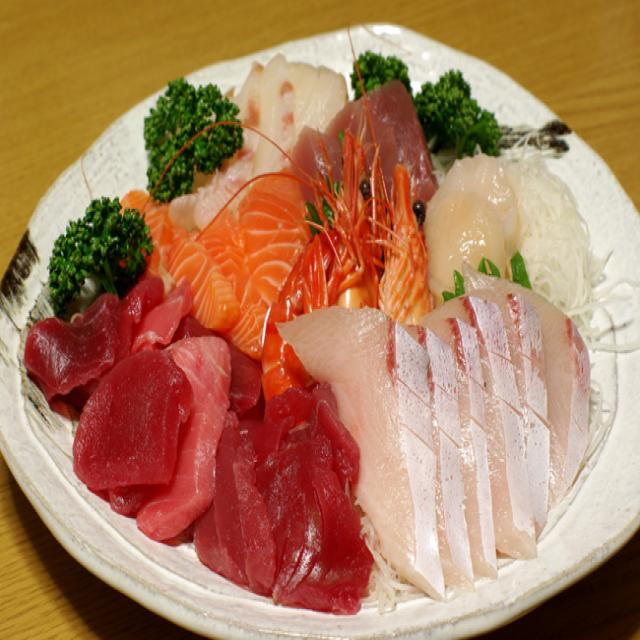刺身生食: (13, 0, 616, 640)
